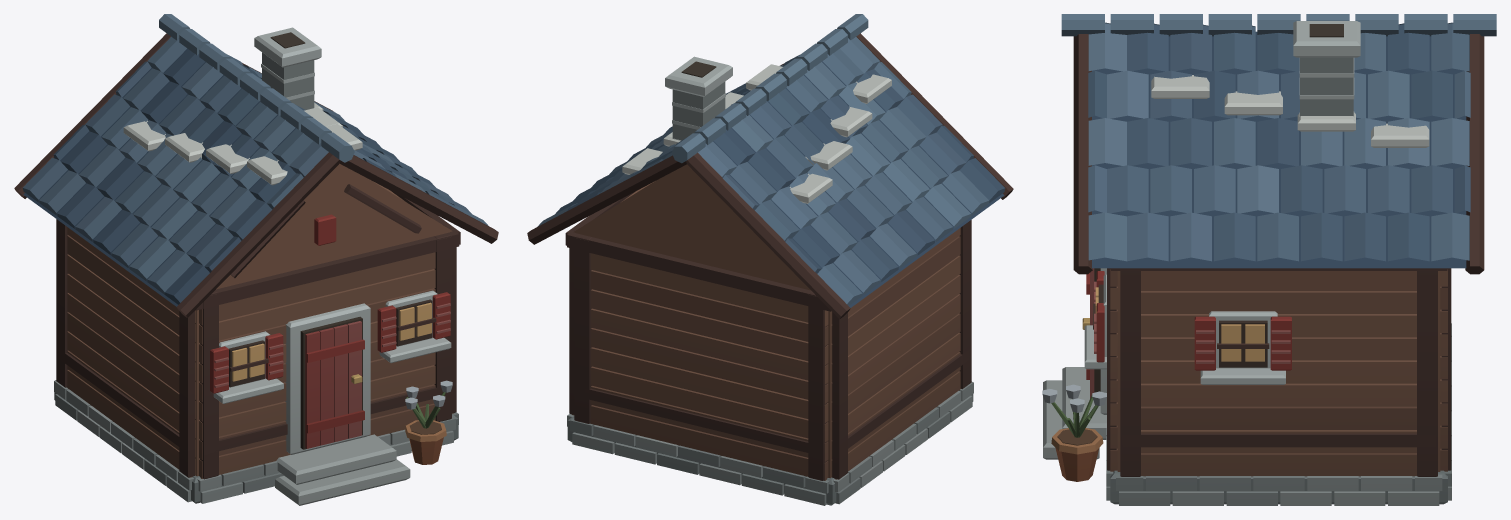
Rendered from fjord.glb.
The picture shows the model from 3 angles, left to right: view 1: azimuth 30°, elevation 25°; view 2: azimuth 150°, elevation 25°; view 3: azimuth 270°, elevation 25°; orthographic projection. The views are drawn at different scales.
Visible parts, largest first — view 1: House; view 2: House; view 3: House.
Boxes of the visible parts, x1=… form: House: x1=14, y1=14, x2=498, y2=505; House: x1=527, y1=14, x2=1013, y2=505; House: x1=1042, y1=14, x2=1496, y2=505.
Size of the model in its own units: 2.97 by 3.17 by 3.04.
